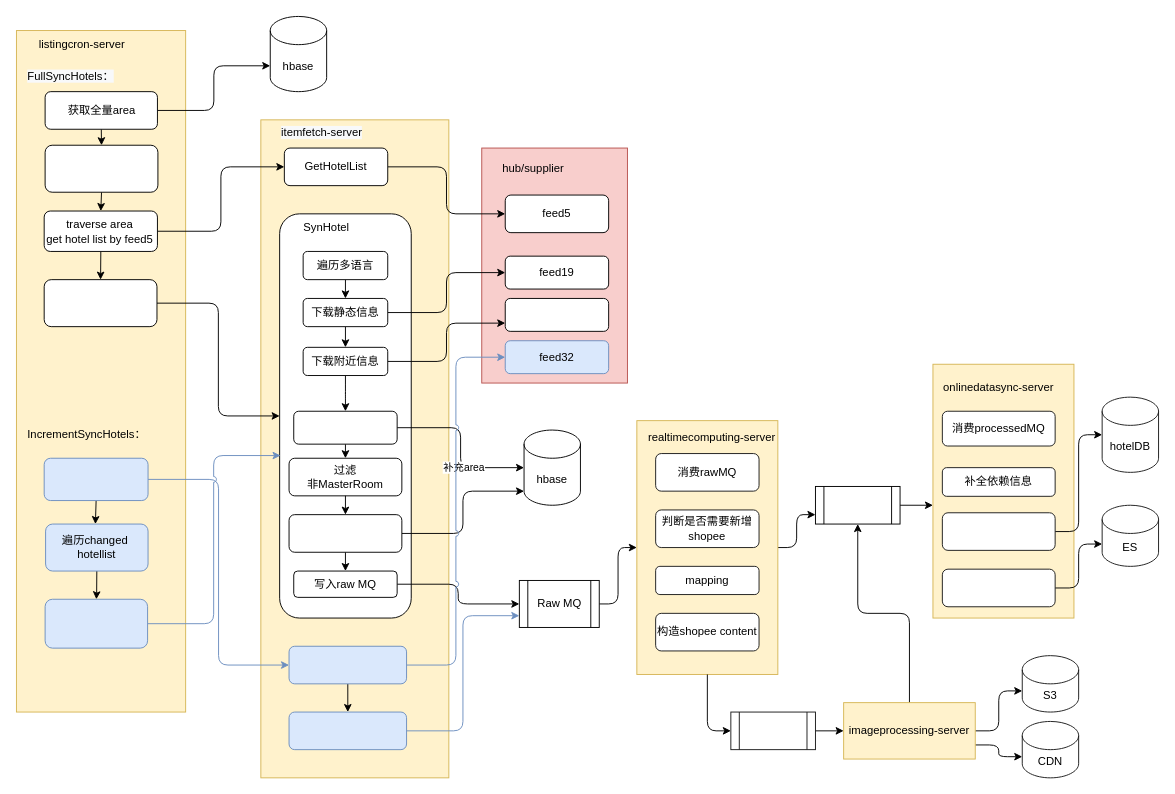
Image size: 1175x794. Some labels were removed from this diagram. Each missing label, with the centre of its shape:
feed31: the point at 556,314
FetchChangedHotels: the point at 347,664
image-MQ: the point at 772,730
Processed MQ: the point at 857,505
sync each hotel: the point at 100,303
Upsert DB: the point at 998,531
Upsert ES: the point at 998,587
与hbase做diff upsert: the point at 345,533
异步同步 updated 和 new hotel: the point at 96,623
拉取变换 hotellist: the point at 95,479
断点续传 lastSyncedRowKey: the point at 101,168
解析适配下载信息: the point at 345,427
遍历下线的hotel: the point at 347,730
